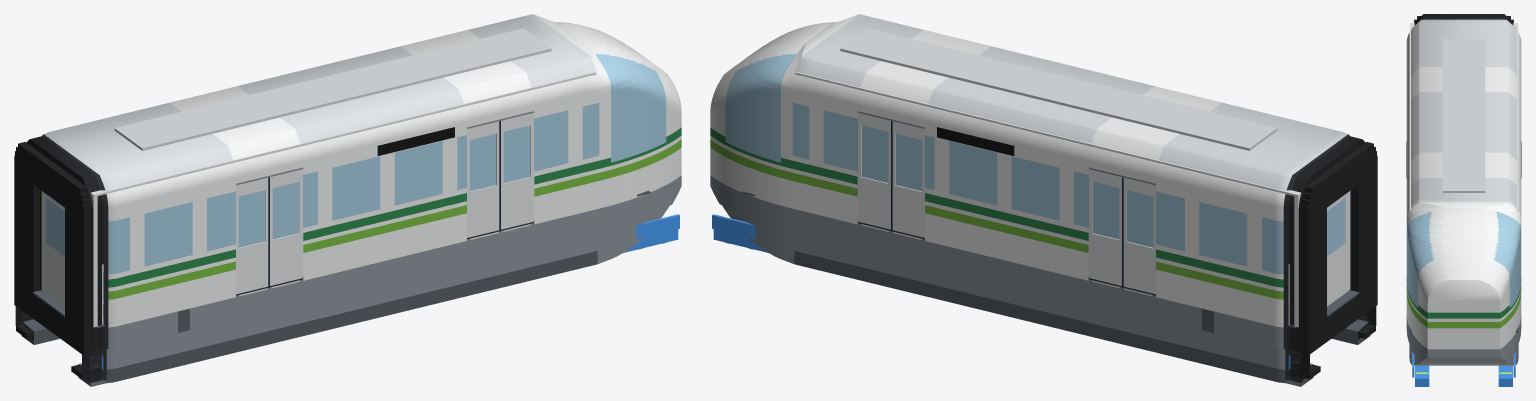
Rendered from ecobee_front.obj.
3 renders of one model, left to right at view 1: azimuth 30°, elevation 25°; view 2: azimuth 150°, elevation 25°; view 3: azimuth 270°, elevation 25°, orthographic. The views are drawn at different scales.
Visible parts, largest first — view 1: SHELL, SHELL_roof, SHELL_diaphragm, EXTERNAL_DOOR_3_CG_DR1_TOGGLE_TL_-0.64_X, EXTERNAL_DOOR_9_CG_DR2_TOGGLE_TL_-0.64_X, EXTERNAL_DOOR_10_CG_DR2_TOGGLE_TL_0.64_X, EXTERNAL_DOOR_4_CG_DR1_TOGGLE_TL_0.64_X, CONNECTING_DOOR_1_CG_CR_TOGGLE_TL_0.98_Z, SHELL_ceiling, BOGEY_FRONT, SHELL_end, SHELL_sign; view 2: SHELL, SHELL_roof, SHELL_diaphragm, EXTERNAL_DOOR_6_CG_DL1_TOGGLE_TL_-0.64_X, EXTERNAL_DOOR_12_CG_DL2_TOGGLE_TL_-0.64_X, EXTERNAL_DOOR_13_CG_DL2_TOGGLE_TL_0.64_X, EXTERNAL_DOOR_7_CG_DL1_TOGGLE_TL_0.64_X, CONNECTING_DOOR_1_CG_CR_TOGGLE_TL_0.98_Z, SHELL_ceiling, BOGEY_FRONT, SHELL_end, SHELL_sign; view 3: SHELL, SHELL_roof, BOGEY_FRONT, SHELL_ceiling.
Boxes of the visible parts, x1=… form: SHELL: x1=21, y1=14, x2=681, y2=386; SHELL_roof: x1=114, y1=28, x2=551, y2=150; SHELL_diaphragm: x1=14, y1=142, x2=90, y2=379; EXTERNAL_DOOR_3_CG_DR1_TOGGLE_TL_-0.64_X: x1=236, y1=177, x2=269, y2=294; EXTERNAL_DOOR_9_CG_DR2_TOGGLE_TL_-0.64_X: x1=467, y1=121, x2=500, y2=237; EXTERNAL_DOOR_10_CG_DR2_TOGGLE_TL_0.64_X: x1=501, y1=113, x2=533, y2=229; EXTERNAL_DOOR_4_CG_DR1_TOGGLE_TL_0.64_X: x1=270, y1=169, x2=302, y2=285; CONNECTING_DOOR_1_CG_CR_TOGGLE_TL_0.98_Z: x1=43, y1=192, x2=64, y2=306; SHELL_ceiling: x1=26, y1=73, x2=592, y2=195; BOGEY_FRONT: x1=624, y1=214, x2=679, y2=252; SHELL_end: x1=41, y1=191, x2=97, y2=327; SHELL_sign: x1=377, y1=127, x2=454, y2=155; SHELL: x1=710, y1=14, x2=1370, y2=386; SHELL_roof: x1=840, y1=28, x2=1277, y2=150; SHELL_diaphragm: x1=1301, y1=142, x2=1377, y2=379; EXTERNAL_DOOR_6_CG_DL1_TOGGLE_TL_-0.64_X: x1=1122, y1=177, x2=1155, y2=294; EXTERNAL_DOOR_12_CG_DL2_TOGGLE_TL_-0.64_X: x1=891, y1=121, x2=924, y2=237; EXTERNAL_DOOR_13_CG_DL2_TOGGLE_TL_0.64_X: x1=858, y1=113, x2=890, y2=229; EXTERNAL_DOOR_7_CG_DL1_TOGGLE_TL_0.64_X: x1=1089, y1=169, x2=1121, y2=285; CONNECTING_DOOR_1_CG_CR_TOGGLE_TL_0.98_Z: x1=1327, y1=192, x2=1348, y2=306; SHELL_ceiling: x1=799, y1=73, x2=1365, y2=195; BOGEY_FRONT: x1=712, y1=214, x2=767, y2=252; SHELL_end: x1=1294, y1=191, x2=1350, y2=327; SHELL_sign: x1=937, y1=127, x2=1014, y2=155; SHELL: x1=1406, y1=14, x2=1521, y2=365; SHELL_roof: x1=1442, y1=39, x2=1485, y2=192; BOGEY_FRONT: x1=1412, y1=352, x2=1515, y2=386; SHELL_ceiling: x1=1409, y1=24, x2=1518, y2=208.
Bounding box in the file's own units: 12.66 × 4.08 × 2.72.
1 material, 1 textured.
